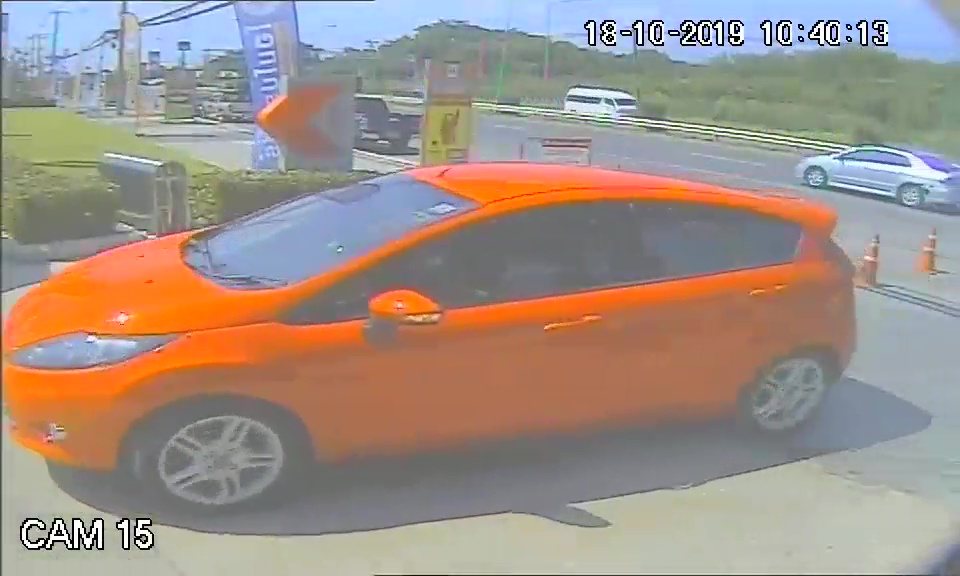sedan: (6, 155, 861, 509)
